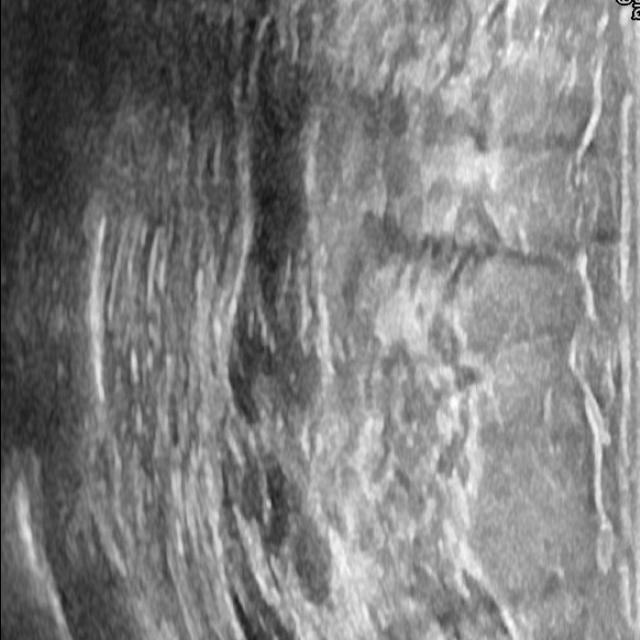Normal: (24, 39, 624, 616)
